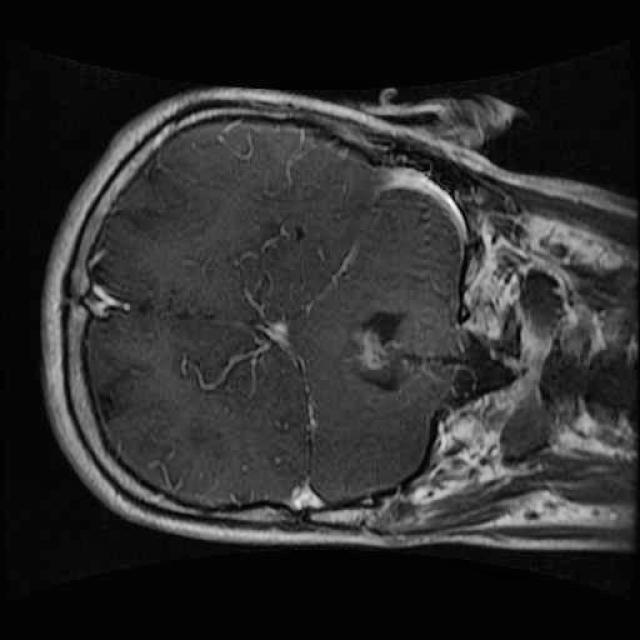Tumor: (338, 287, 437, 405)
